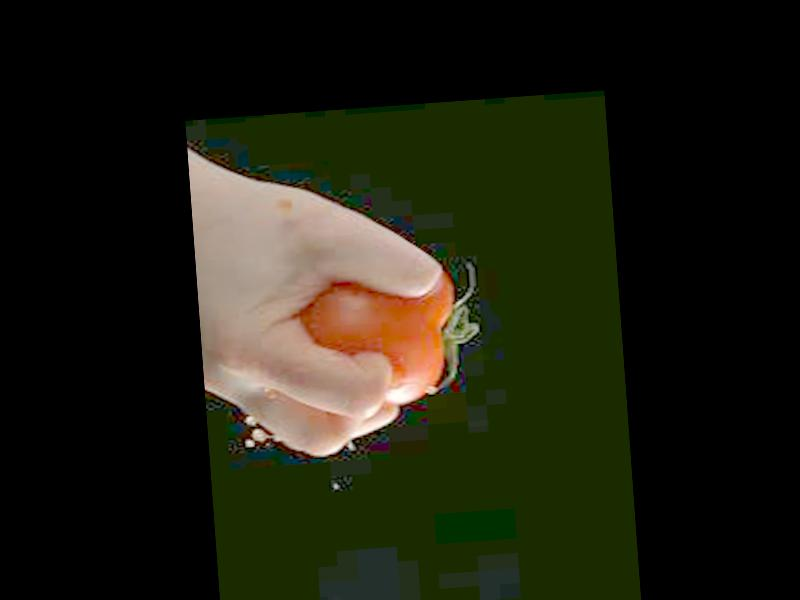Tomato: (299, 270, 460, 410)
